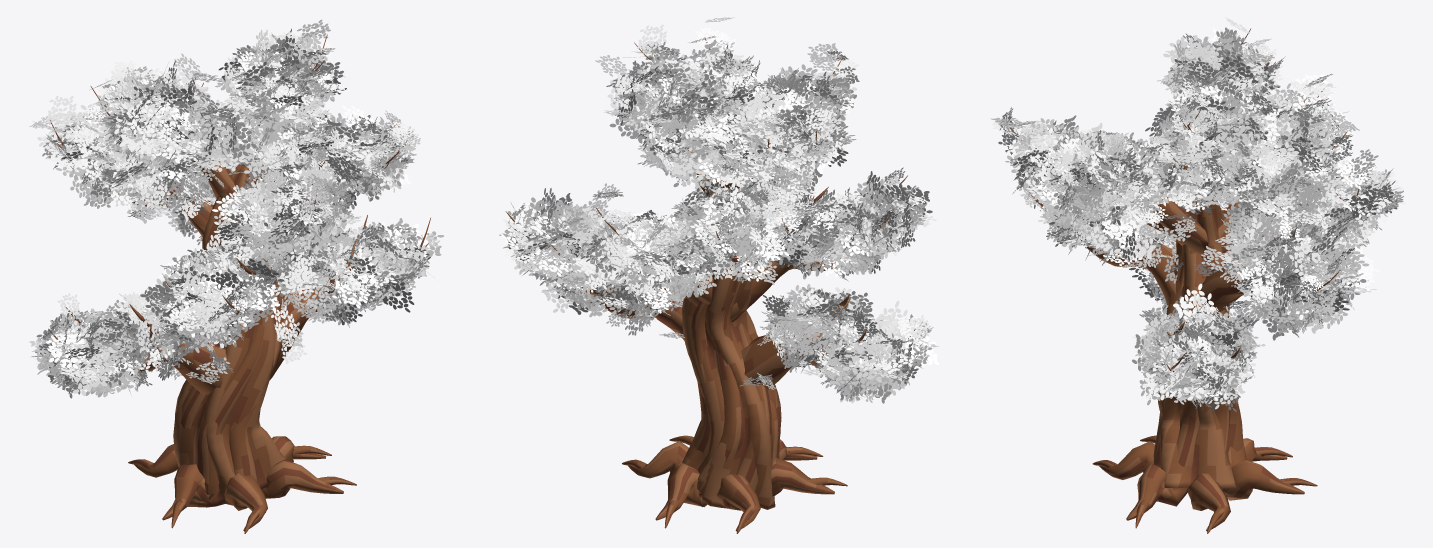
File: eggydrasil-v8-tintable.glb
3 renders of one model, left to right at view 1: azimuth 30°, elevation 25°; view 2: azimuth 150°, elevation 25°; view 3: azimuth 270°, elevation 25°, orthographic.
Parts seen in each view (by area): view 1: Canopy_White, Canopy_Gray, Wood_V4; view 2: Canopy_White, Canopy_Gray, Wood_V4; view 3: Canopy_White, Canopy_Gray, Wood_V4.
Boxes of the visible parts, left/top/right/bottom form: Canopy_White: left=29, top=28, right=439, bottom=395; Canopy_Gray: left=31, top=19, right=443, bottom=398; Wood_V4: left=48, top=34, right=430, bottom=533; Canopy_White: left=501, top=17, right=939, bottom=403; Canopy_Gray: left=499, top=41, right=932, bottom=403; Wood_V4: left=505, top=37, right=915, bottom=533; Canopy_White: left=991, top=17, right=1405, bottom=411; Canopy_Gray: left=990, top=33, right=1403, bottom=414; Wood_V4: left=1003, top=28, right=1359, bottom=533.
Size of the model in its own units: 49.49 by 50.76 by 44.59.
Materials: 5 (2 with a texture image).
